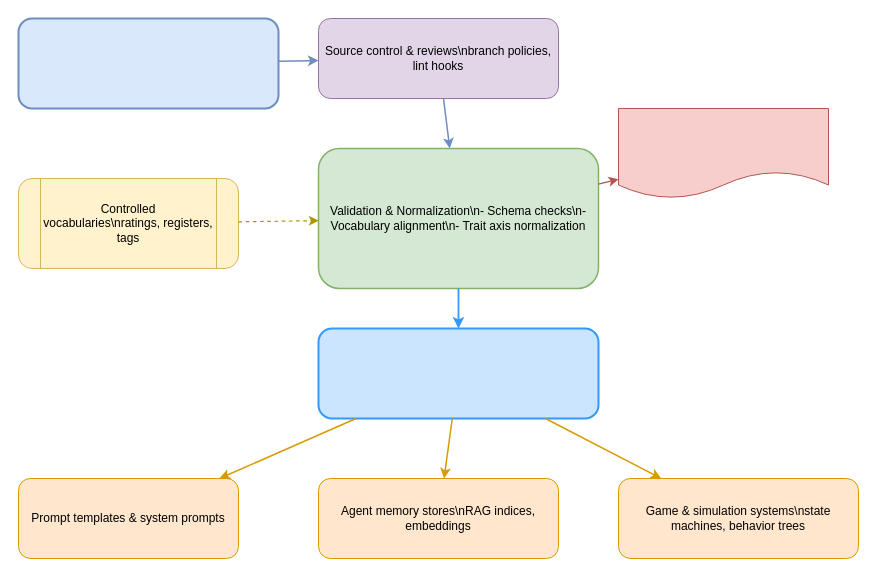
This 876x576 diagram has some shape labels left out. Each missing label, with the centre of its shape:
"Authoring Workspace\nOCS-T markdown + JSON fragments" goes at point (148, 63).
"Diagnostics output\nwarnings, lint reports" goes at point (723, 153).
"Normalized CharacterDefinition JSON" goes at point (458, 373).
